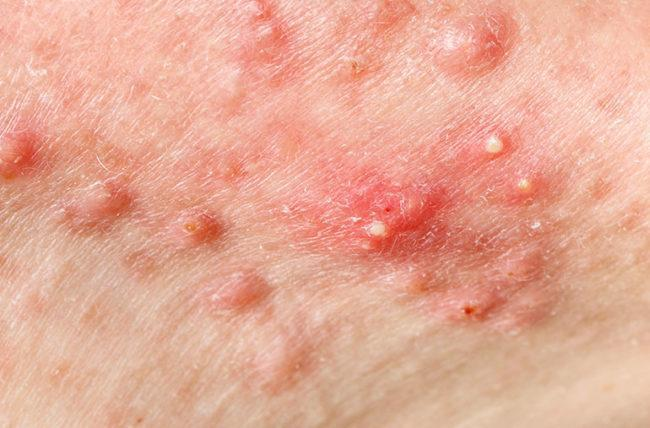cystic: (421, 7, 525, 80), (65, 170, 135, 236), (195, 257, 268, 319), (1, 114, 43, 192)
purulent: (476, 129, 516, 163), (506, 172, 542, 204)
sebo-crystan-conglo: (331, 170, 456, 255)
